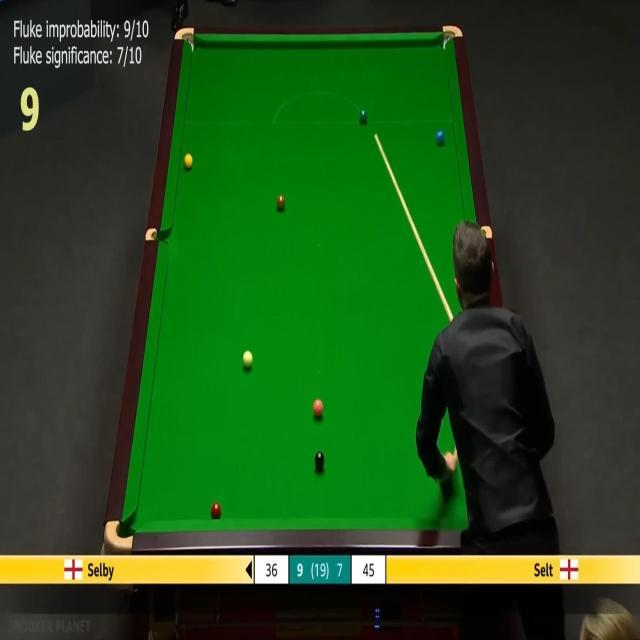Ball: (312, 398, 324, 417), (314, 451, 325, 470), (242, 350, 252, 368), (211, 502, 221, 518), (276, 194, 286, 210), (184, 153, 193, 169), (360, 109, 368, 123), (436, 130, 444, 144)
